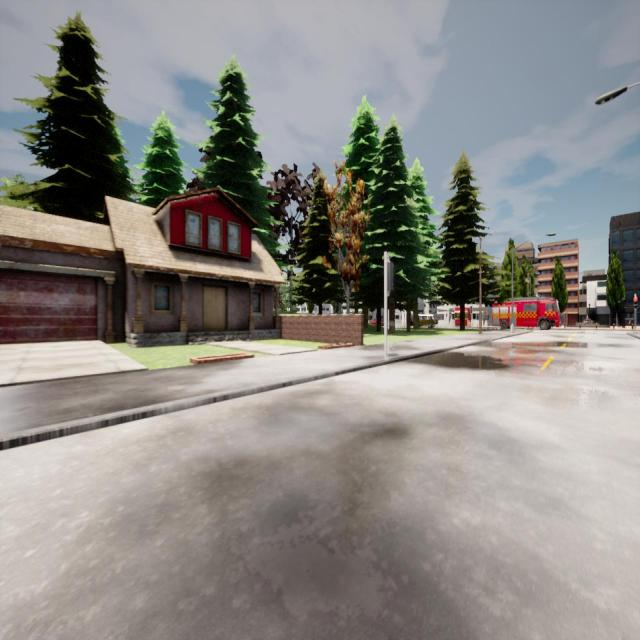Vehicle: (492, 298, 560, 330), (417, 313, 438, 329)
traffic_light: (388, 261, 393, 292), (633, 298, 638, 310)
